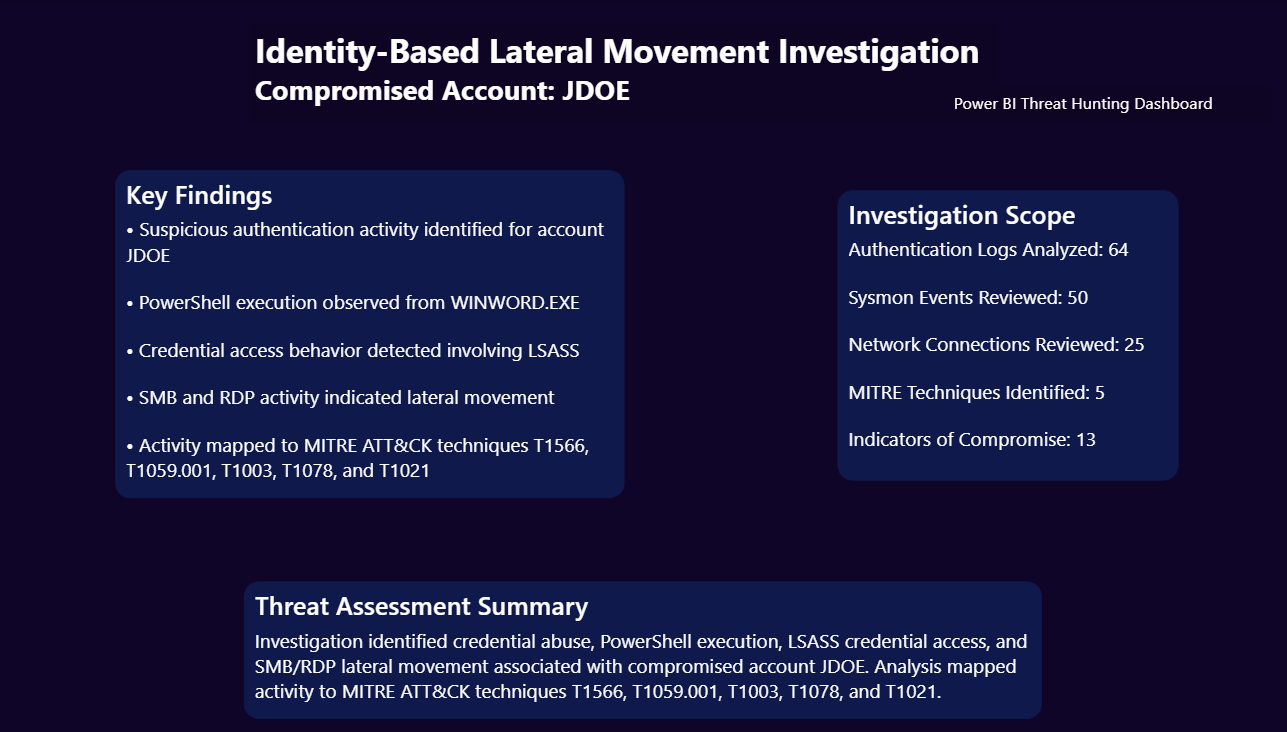

Layout of this report page (visuals, bound fields, positions):
{"tool":"powerbi","page":{"name":"Threat Summary","canvas":[1280,720],"ordinal":5},"visuals":[{"type":"textbox","title":"Threat Assessment Summary","box":[248.4,569.5,780.8,134.5],"z":0},{"type":"textbox","box":[254.3,23.2,731.3,99],"z":1000},{"type":"textbox","box":[937.9,85.6,315.5,36.7],"z":2000},{"type":"textbox","title":"Investigation Scope","box":[828.8,186.6,333.4,284],"z":2001},{"type":"textbox","title":"Key Findings","box":[122.1,167.4,498.1,321.1],"z":2002}]}

Visuals, with their boxes in screenshot pixels (x1, y1, x2, y2), scaled from the page's 1280x720 canvas onto the 1287x732 screenshot:
"Threat Assessment Summary" textbox: crop(250, 579, 1035, 716)
textbox: crop(256, 24, 991, 124)
textbox: crop(943, 87, 1260, 124)
"Investigation Scope" textbox: crop(833, 190, 1169, 478)
"Key Findings" textbox: crop(123, 170, 624, 497)
